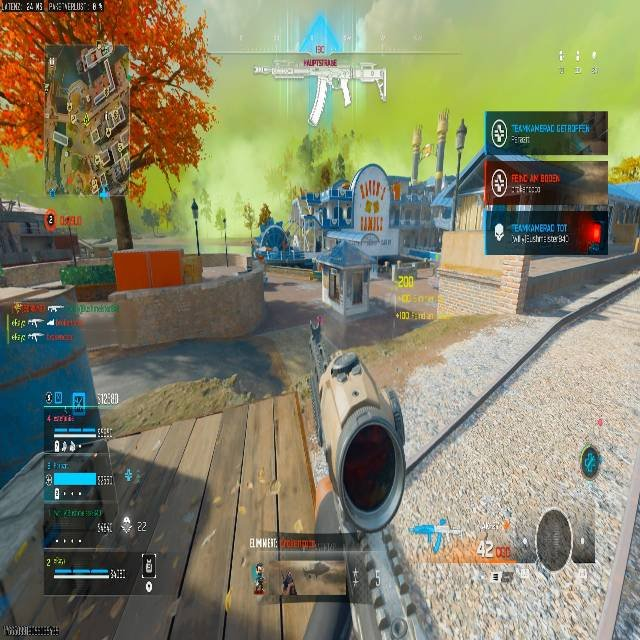player: (255, 206, 290, 261), (281, 571, 296, 596), (576, 140, 593, 154), (263, 271, 269, 287)
